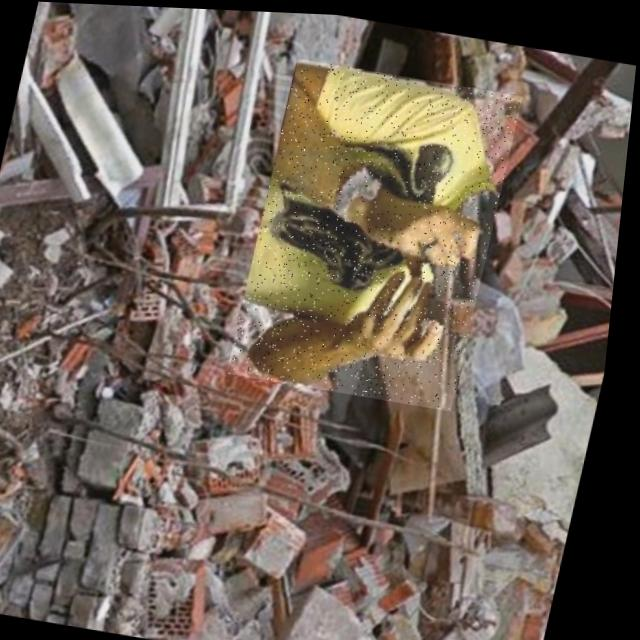Person in Rubble: (231, 54, 525, 408)
